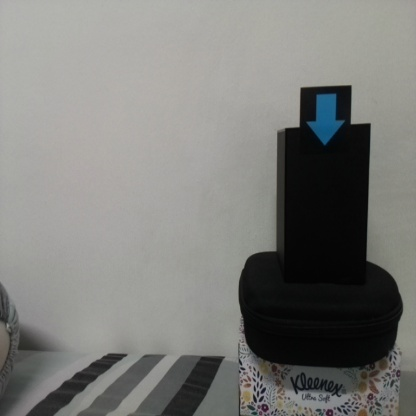id_2: (301, 88, 352, 151)
